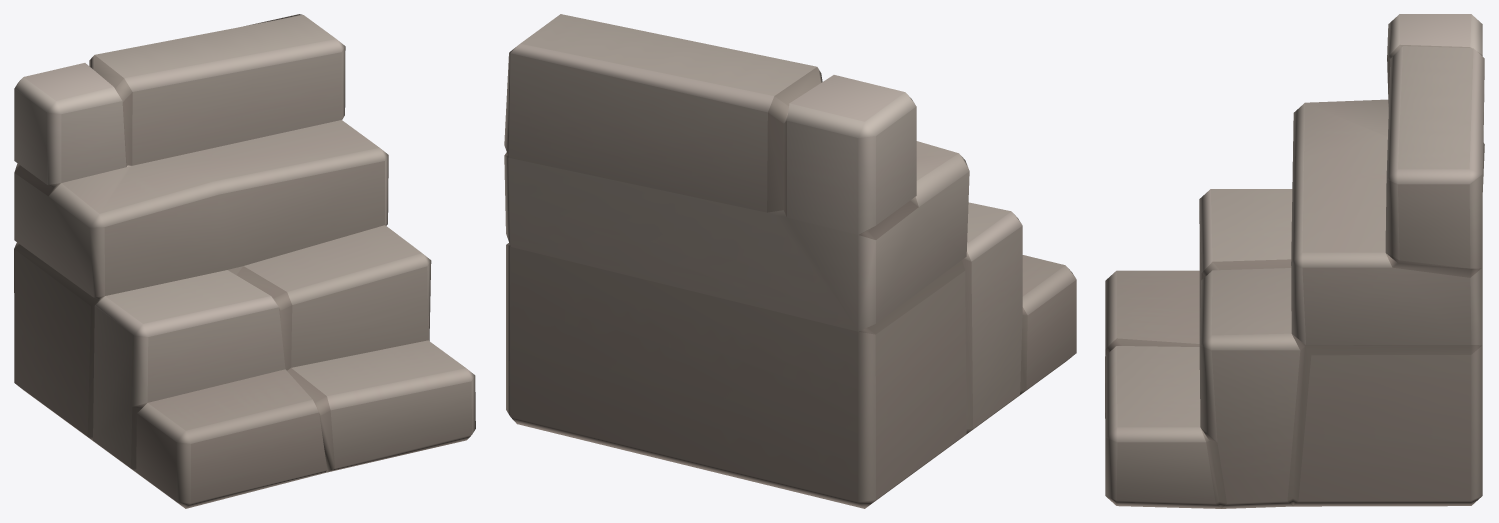
The model's file is elf_stairs_shade_2.fbx.
The picture shows the model from 3 angles, left to right: view 1: azimuth 30°, elevation 25°; view 2: azimuth 150°, elevation 25°; view 3: azimuth 270°, elevation 25°; orthographic projection. The views are drawn at different scales.
Parts seen in each view (by area): view 1: elf_stairs_shade_2; view 2: elf_stairs_shade_2; view 3: elf_stairs_shade_2.
Boxes of the visible parts, x1,y1,x2,y2 form: elf_stairs_shade_2: [14, 14, 475, 508]; elf_stairs_shade_2: [504, 14, 1076, 508]; elf_stairs_shade_2: [1105, 14, 1484, 508].
Bounding box in the file's own units: 101 × 102 × 101.
